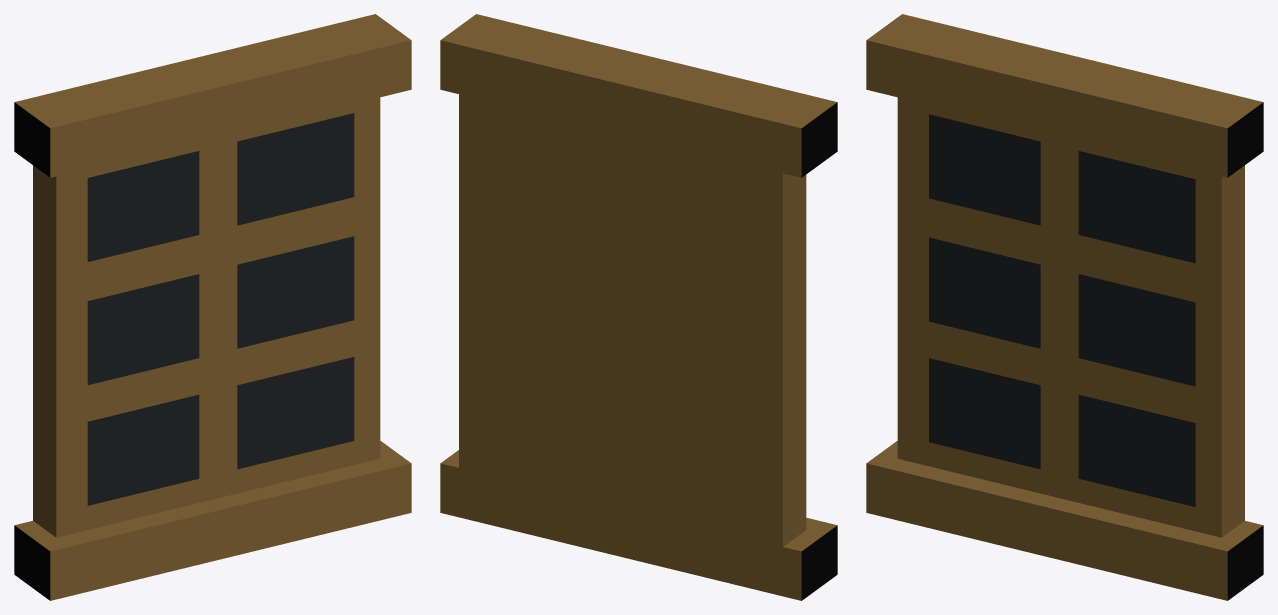
The model's file is HouseAdd_Window_03.gltf.
3 renders of one model, left to right at view 1: azimuth 30°, elevation 25°; view 2: azimuth 150°, elevation 25°; view 3: azimuth 330°, elevation 25°, orthographic.
Parts seen in each view (by area): view 1: SF_Bld_HouseAdd_Window_03; view 2: SF_Bld_HouseAdd_Window_03; view 3: SF_Bld_HouseAdd_Window_03.
Boxes of the visible parts, x1,y1,x2,y2 form: SF_Bld_HouseAdd_Window_03: (14,14,411,600); SF_Bld_HouseAdd_Window_03: (440,14,837,600); SF_Bld_HouseAdd_Window_03: (866,14,1263,600).
Bounding box in the file's own units: 0.0192 × 0.024 × 0.0033.
1 material, 1 textured.
